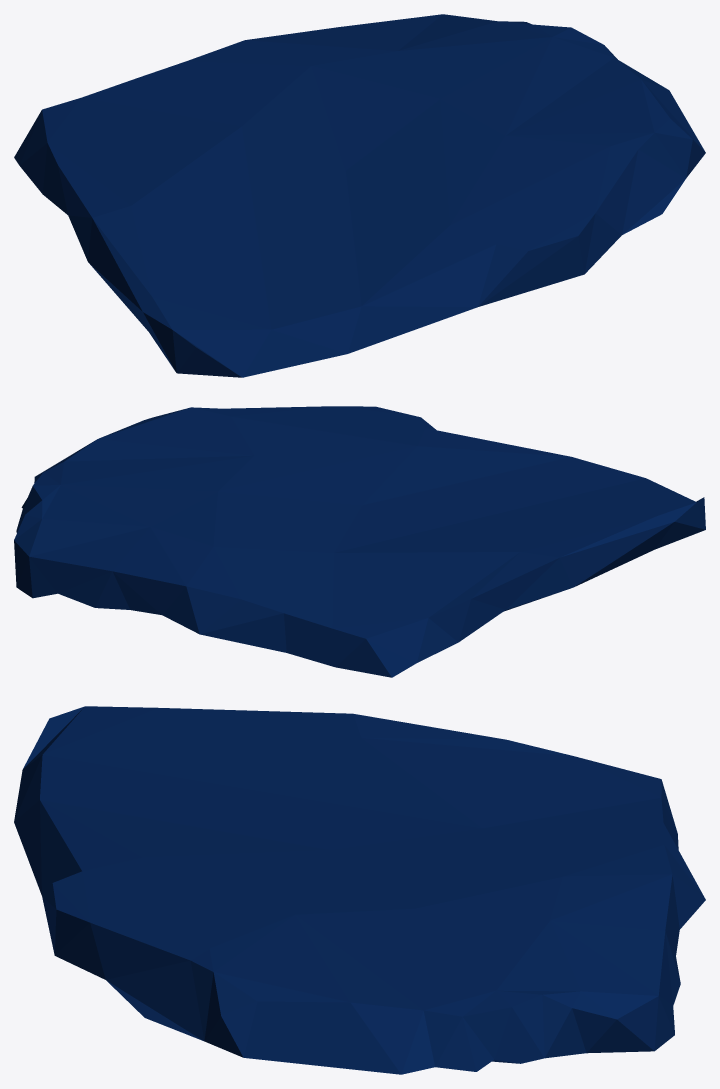
Rendered from Cave_stone_20.glb.
The picture shows the model from 3 angles, top to bottom: view 1: azimuth 30°, elevation 25°; view 2: azimuth 150°, elevation 25°; view 3: azimuth 270°, elevation 25°; orthographic projection. The views are drawn at different scales.
Parts seen in each view (by area): view 1: Cave_stone_20; view 2: Cave_stone_20; view 3: Cave_stone_20.
Boxes of the visible parts, bbox=[...] form: Cave_stone_20: bbox=[14, 14, 705, 377]; Cave_stone_20: bbox=[14, 406, 705, 677]; Cave_stone_20: bbox=[14, 706, 705, 1074].
Bounding box in the file's own units: 8.52 × 0.8769 × 7.19.
